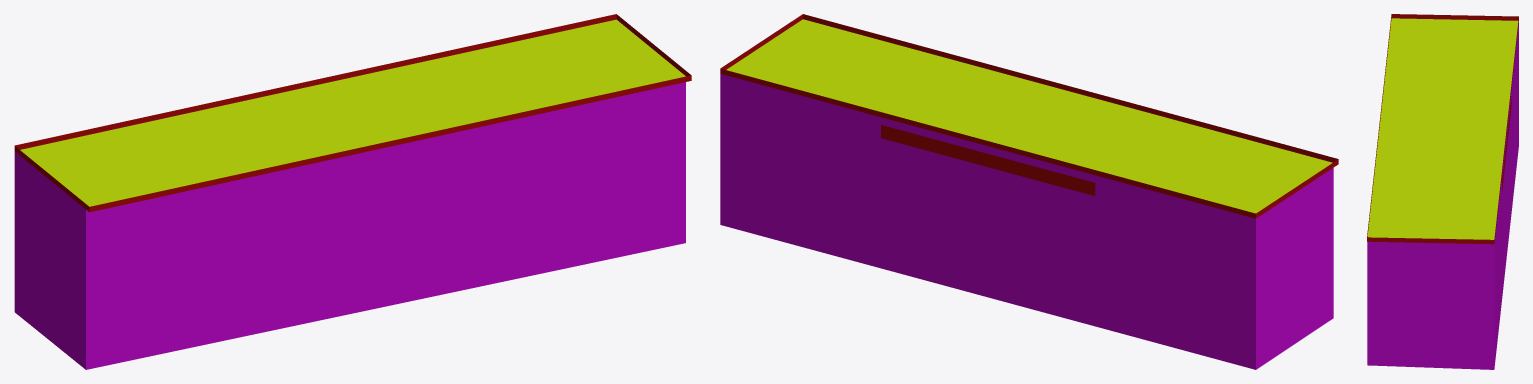
Rendered from sjs_78.glb.
3 renders of one model, left to right at view 1: azimuth 30°, elevation 25°; view 2: azimuth 150°, elevation 25°; view 3: azimuth 270°, elevation 25°, orthographic. The views are drawn at different scales.
Visible parts, largest first — view 1: sjs_78; view 2: sjs_78; view 3: sjs_78.
Part boxes in pixels (box(x1,y1,x2,y2)): sjs_78: box(14, 14, 691, 369); sjs_78: box(720, 14, 1338, 369); sjs_78: box(1367, 14, 1518, 369).
Bounding box in the file's own units: 39.05 × 10.48 × 11.1.
